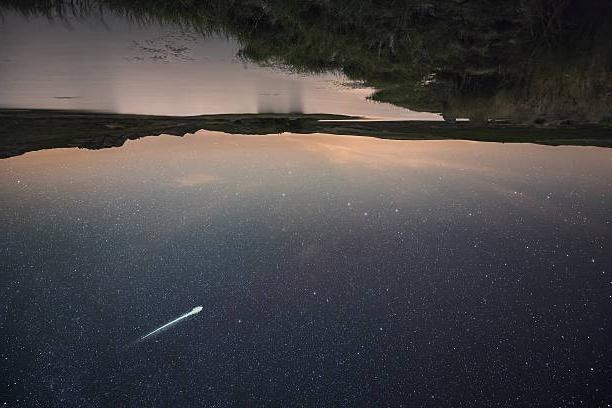meteorite: (130, 301, 213, 345)
